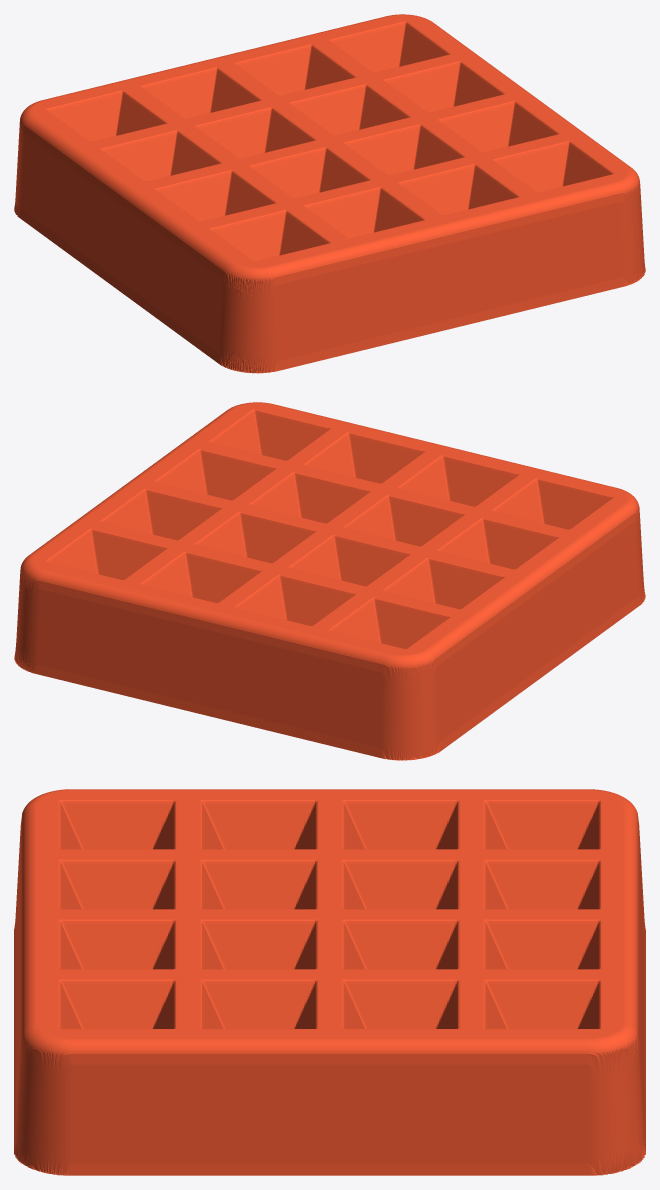
Rendered from mold.glb.
3 renders of one model, top to bottom at view 1: azimuth 30°, elevation 25°; view 2: azimuth 150°, elevation 25°; view 3: azimuth 270°, elevation 25°, orthographic. The views are drawn at different scales.
Visible parts, largest first — view 1: geometry_0; view 2: geometry_0; view 3: geometry_0.
Part boxes in pixels (x1,y1,x2,y2): geometry_0: (14,14,645,373); geometry_0: (14,402,645,760); geometry_0: (14,789,645,1175).
Bounding box in the file's own units: 0.0987 × 0.022 × 0.0987.
